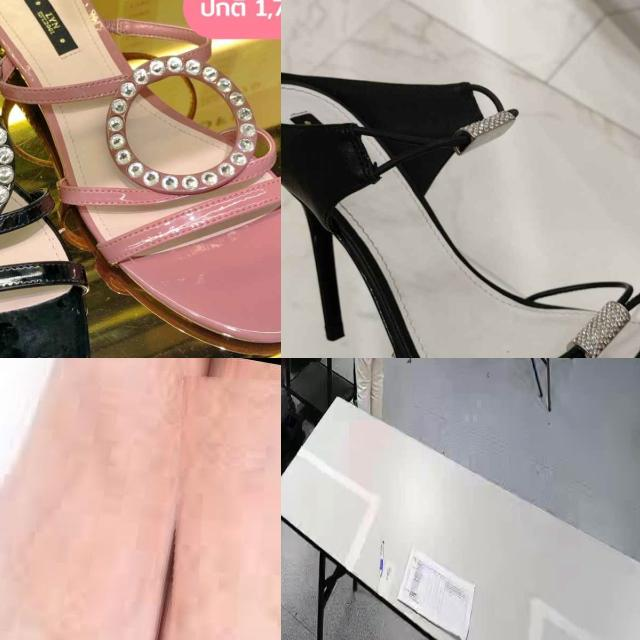Barefoots: (0, 364, 201, 640), (156, 389, 281, 640)
Sandals: (281, 37, 640, 358), (0, 0, 281, 358), (0, 0, 113, 358)
person: (332, 358, 402, 420)
